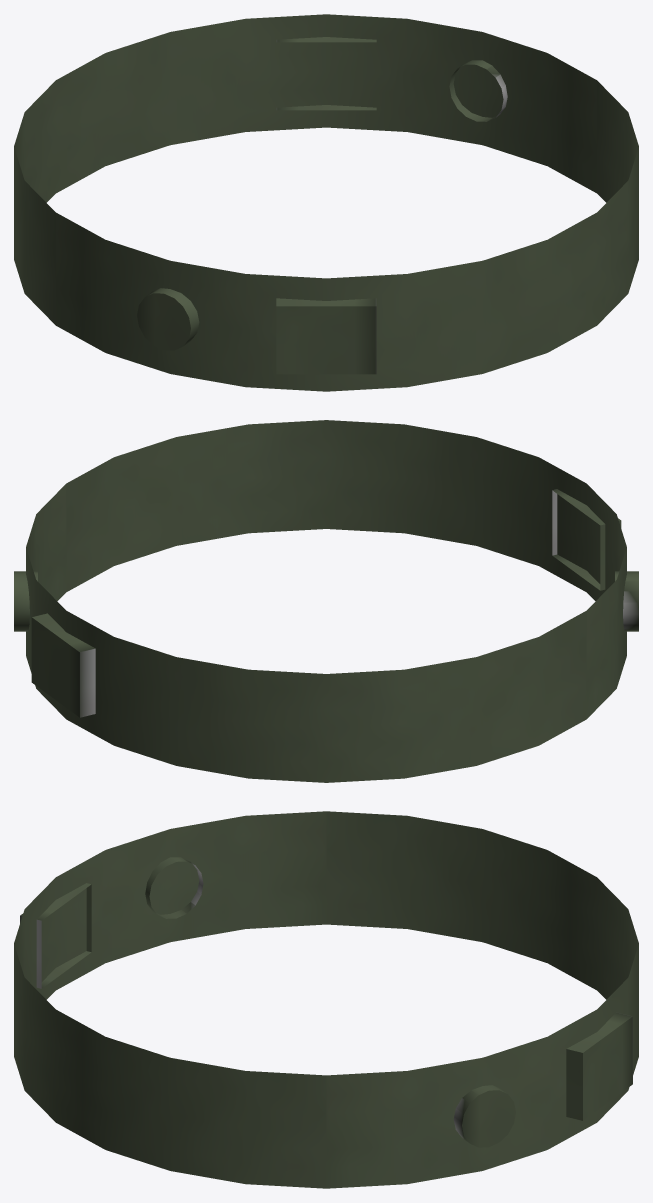
The model's file is zenit midriff.obj.
3 views of the same model, one above another, from view 1: azimuth 30°, elevation 25°; view 2: azimuth 150°, elevation 25°; view 3: azimuth 270°, elevation 25° (orthographic). The views are drawn at different scales.
Parts seen in each view (by area): view 1: interstage; view 2: interstage; view 3: interstage.
Boxes of the visible parts, left/top/right/bottom form: interstage: left=14, top=14, right=638, bottom=391; interstage: left=14, top=420, right=638, bottom=782; interstage: left=14, top=811, right=638, bottom=1188.
Size of the model in its own units: 1.25 by 0.25 by 1.25.
